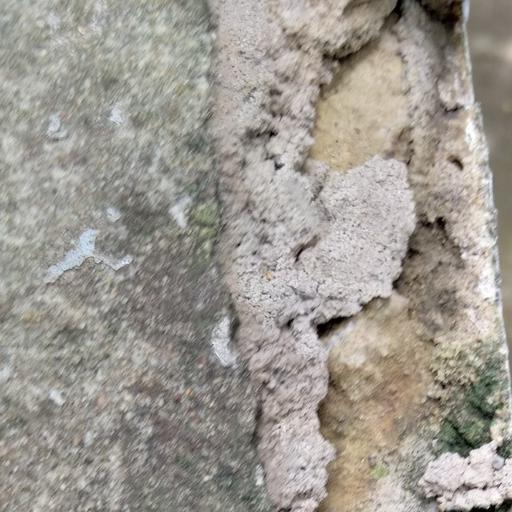spalling: (167, 3, 512, 512)
